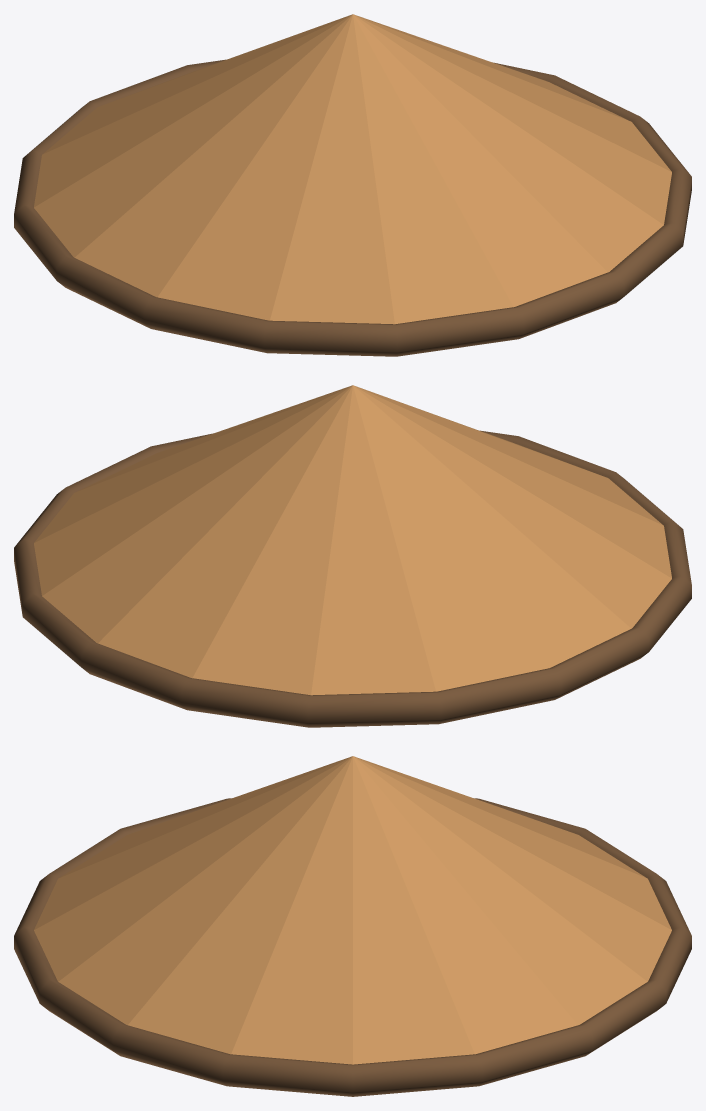
Rendered from Hat 5.fbx.
3 views of the same model, one above another, from view 1: azimuth 30°, elevation 25°; view 2: azimuth 150°, elevation 25°; view 3: azimuth 270°, elevation 25° (orthographic).
Parts seen in each view (by area): view 1: Conical Hat; view 2: Conical Hat; view 3: Conical Hat.
Boxes of the visible parts, x1,y1,x2,y2 form: Conical Hat: (14,14,691,356); Conical Hat: (14,385,691,727); Conical Hat: (14,756,691,1096).
Size of the model in its own units: 226 by 74.26 by 226.
